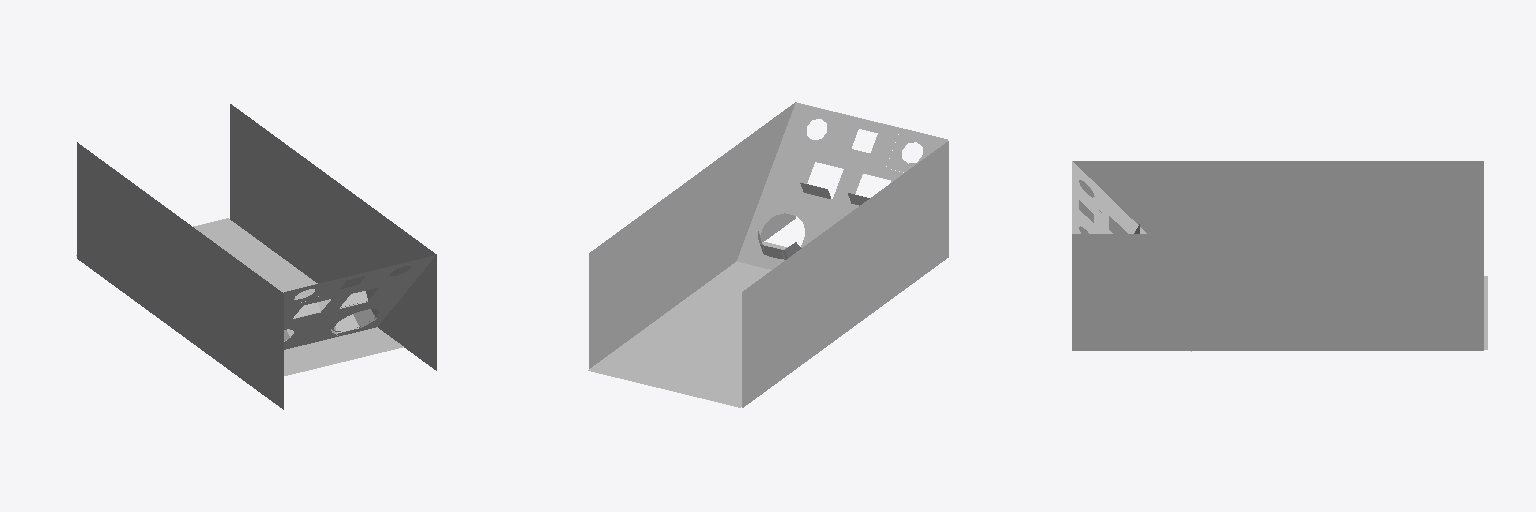
File: SkeeBall_map1.obj
The picture shows the model from 3 angles: view 1: azimuth 30°, elevation 25°; view 2: azimuth 150°, elevation 25°; view 3: azimuth 270°, elevation 25°; orthographic projection.
Parts seen in each view (by area): view 1: Plane.002, Plane.003, Plane.001, Plane; view 2: Plane.002, Plane.003, Plane.001, Plane; view 3: Plane.003, Plane.002, Plane.
Part boxes in pixels (left/top/right/bottom): Plane.002: left=77, top=142, right=283, bottom=409; Plane.003: left=230, top=104, right=436, bottom=370; Plane.001: left=76, top=218, right=403, bottom=375; Plane: left=284, top=255, right=435, bottom=349; Plane.002: left=742, top=141, right=948, bottom=407; Plane.003: left=589, top=102, right=795, bottom=368; Plane.001: left=588, top=242, right=787, bottom=407; Plane: left=737, top=102, right=947, bottom=269; Plane.003: left=1072, top=234, right=1483, bottom=350; Plane.002: left=1073, top=161, right=1483, bottom=233; Plane: left=1072, top=161, right=1191, bottom=351.
Bounding box in the file's own units: 2 × 1.48 × 4.73.